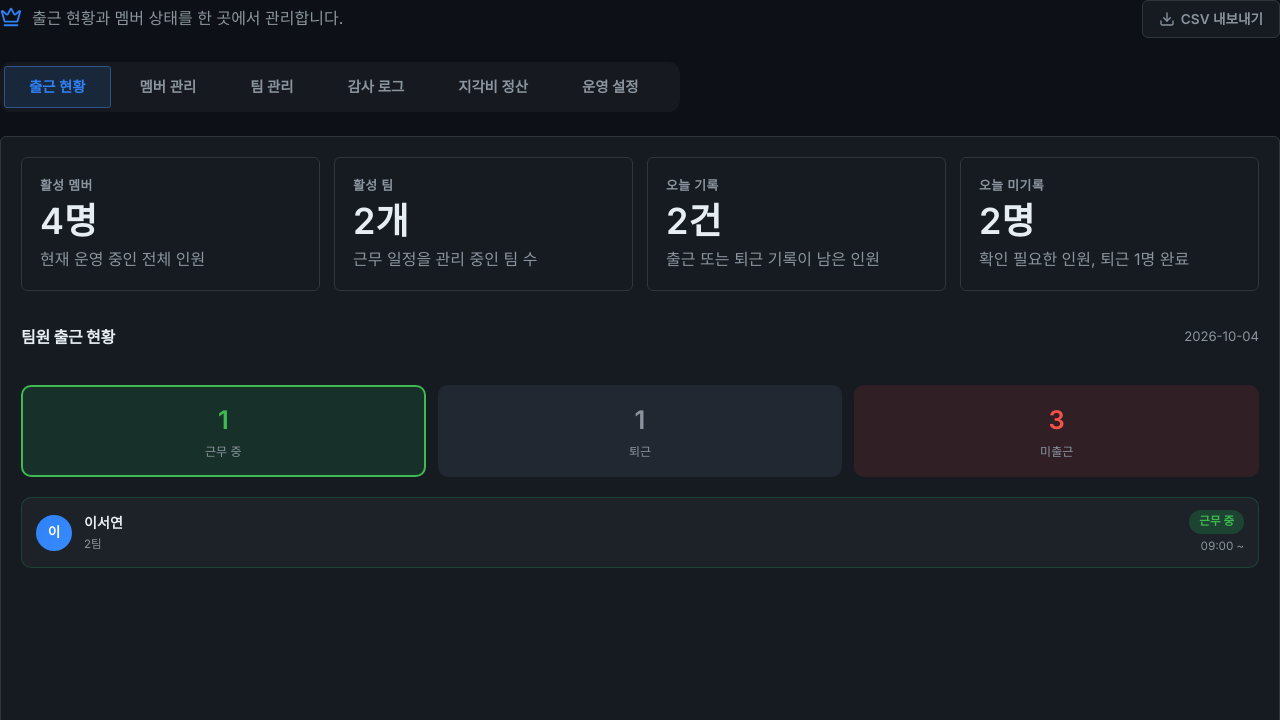
it: Admin 페이지 › 운영 설정 탭에서 자동 체크아웃 시간을 확인할 수 있다
What coordinates should you click on to do the following:
click the button "운영 설정"
I would click on:
 (610, 87)
Its box is [557,66,664,108].
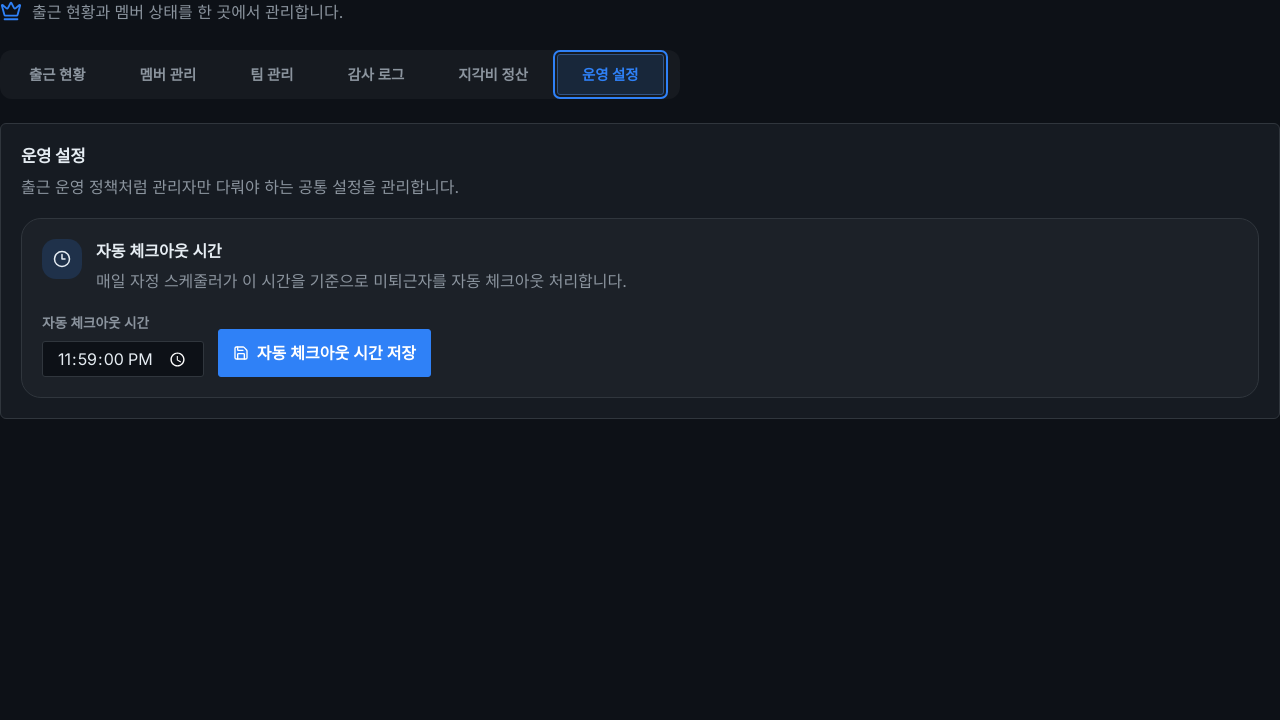
Expected: the time field showing "23:59" is shown, [42,341,204,377]
